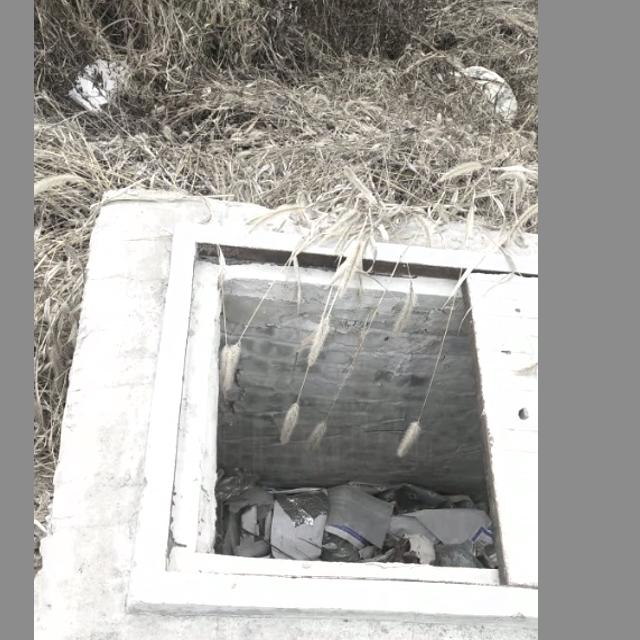lose: (125, 223, 537, 617)
